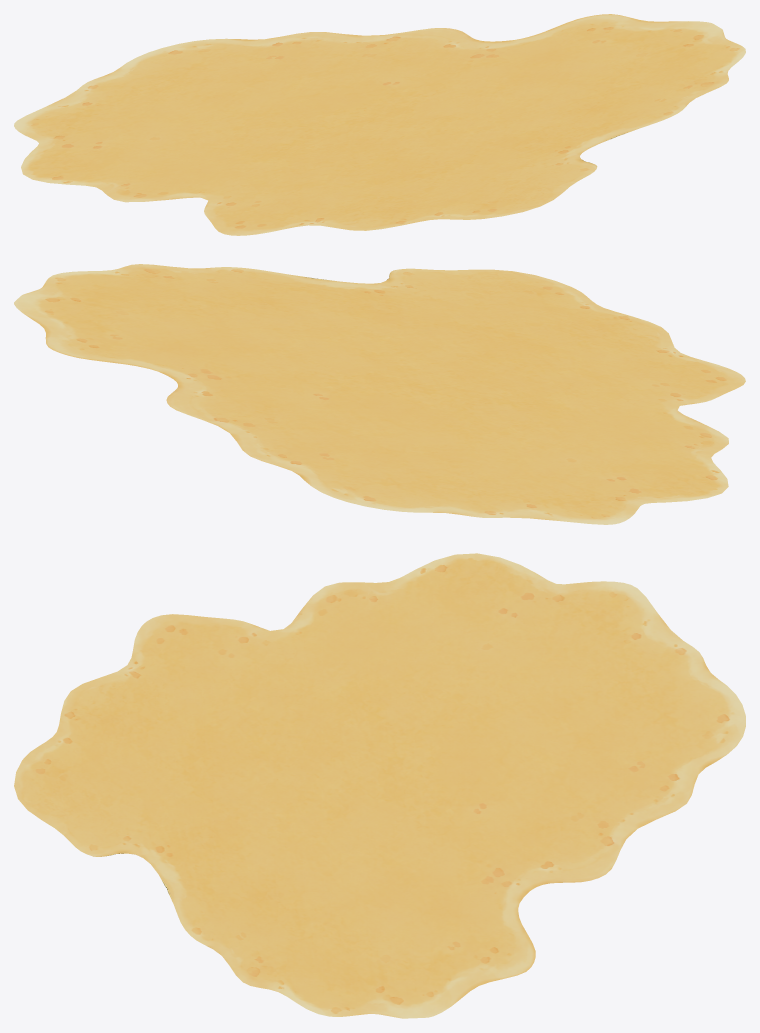
Rendered from Sand_Ground02.fbx.
3 views of the same model, one above another, from view 1: azimuth 30°, elevation 25°; view 2: azimuth 150°, elevation 25°; view 3: azimuth 270°, elevation 25° (orthographic). The views are drawn at different scales.
Parts seen in each view (by area): view 1: Plane.003; view 2: Plane.003; view 3: Plane.003.
Part boxes in pixels (x1=…): Plane.003: x1=14, y1=14, x2=745, y2=235; Plane.003: x1=14, y1=264, x2=745, y2=524; Plane.003: x1=14, y1=553, x2=745, y2=1018.
Size of the model in its own units: 19.47 by 3.77e-14 by 12.95.
